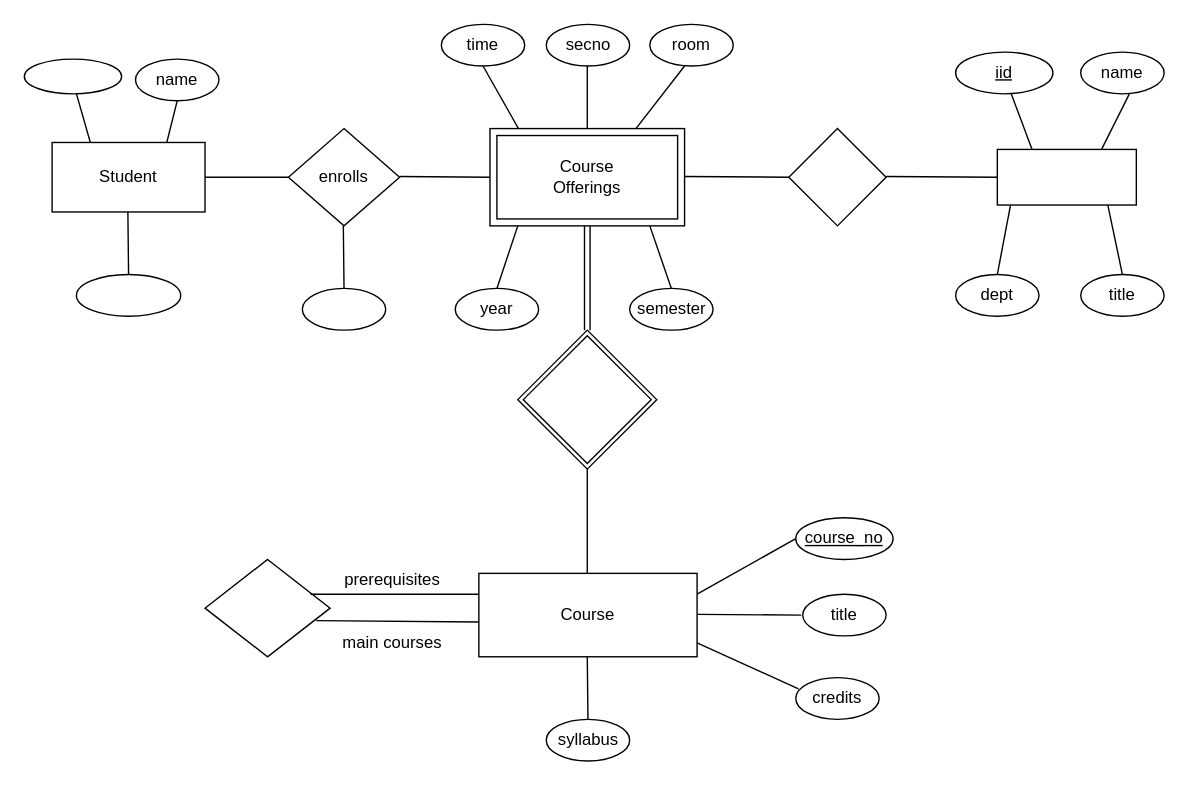
The diagram is 1188 pixels wide and 785 high, and some of its shapes have lost their labels. The centre of each missing label's shape, as x and y in pixels:
"grade" goes at pixel 343 308.
"Instructor" goes at pixel 1066 176.
"is_offered" goes at pixel 586 399.
"program" goes at pixel 128 294.
"requires" goes at pixel 267 607.
"sid" goes at pixel 72 76.
"teaches" goes at pixel 836 176.
